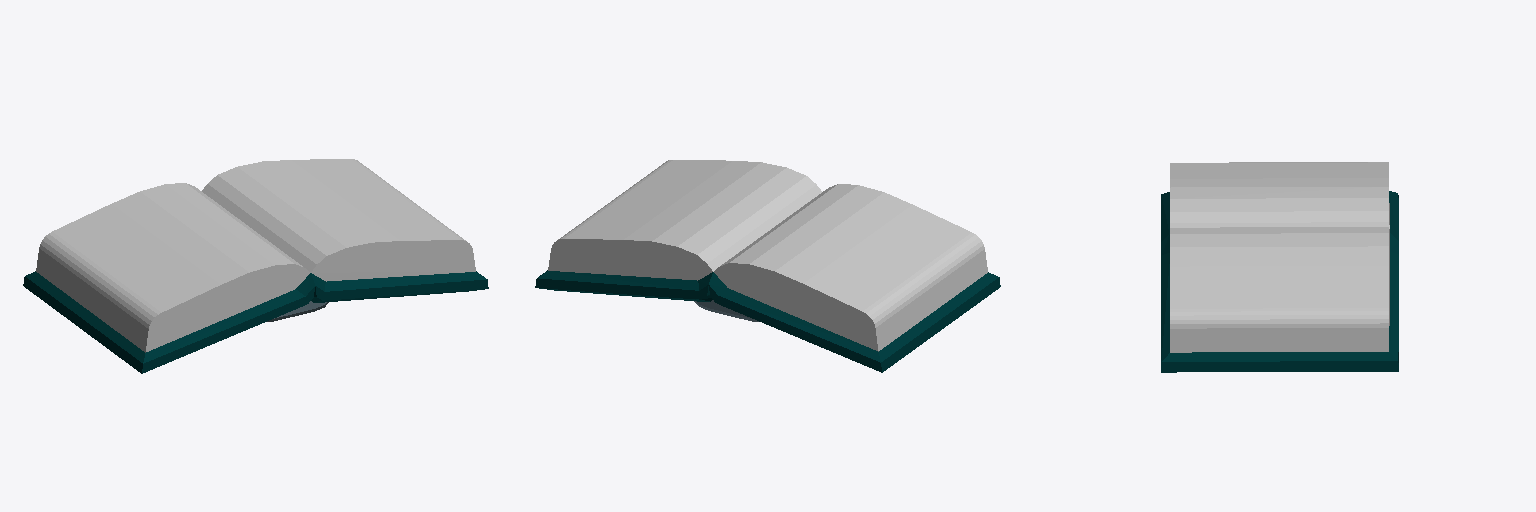
Rendered from bookOpenA.obj.
3 views of the same model, side by side, from view 1: azimuth 30°, elevation 25°; view 2: azimuth 150°, elevation 25°; view 3: azimuth 270°, elevation 25° (orthographic).
Parts seen in each view (by area): view 1: bookOpenA_Cube.4089; view 2: bookOpenA_Cube.4089; view 3: bookOpenA_Cube.4089.
Part boxes in pixels (left/top/right/bottom): bookOpenA_Cube.4089: left=23, top=159, right=488, bottom=373; bookOpenA_Cube.4089: left=535, top=160, right=1000, bottom=372; bookOpenA_Cube.4089: left=1161, top=162, right=1398, bottom=372.
Size of the model in its own units: 0.7032 by 0.1569 by 0.4166.